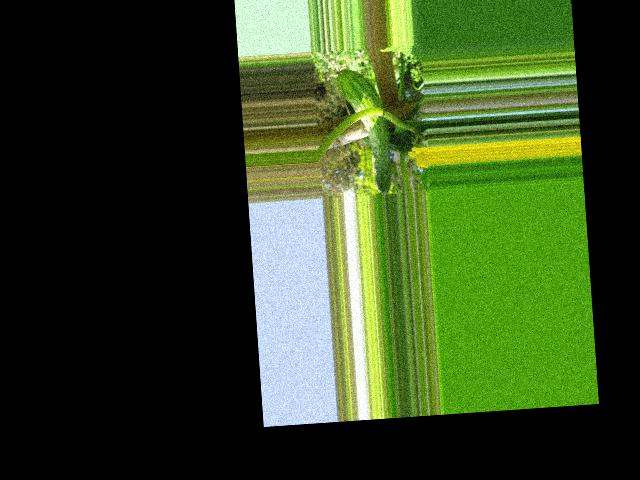cucumber: (337, 66, 393, 197)
